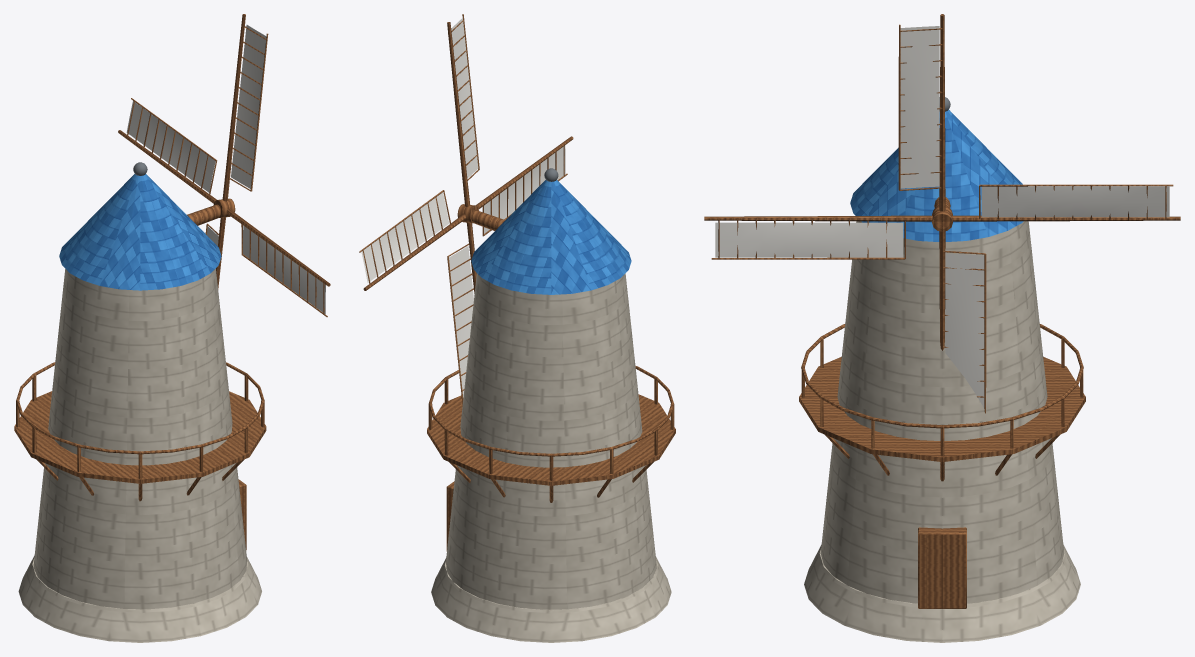
File: hilltop_windmill.glb
3 views of the same model, side by side, from view 1: azimuth 30°, elevation 25°; view 2: azimuth 150°, elevation 25°; view 3: azimuth 270°, elevation 25° (orthographic). The views are drawn at different scales.
Visible parts, largest first — view 1: WM_StoneTower, WM_ShingleCap, WM_TimberGallery, WM_SailCloth, WM_SailFrames; view 2: WM_StoneTower, WM_ShingleCap, WM_TimberGallery, WM_SailCloth, WM_SailFrames; view 3: WM_StoneTower, WM_SailCloth, WM_TimberGallery, WM_ShingleCap, WM_SailFrames.
Boxes of the visible parts, x1,y1,x2,y2 form: WM_StoneTower: (18,268,261,642); WM_ShingleCap: (59,174,221,290); WM_TimberGallery: (14,204,266,550); WM_SailCloth: (126,25,325,314); WM_SailFrames: (118,14,330,317); WM_StoneTower: (431,273,671,642); WM_ShingleCap: (471,180,631,294); WM_TimberGallery: (427,210,675,551); WM_SailCloth: (361,18,565,397); WM_SailFrames: (359,14,573,404); WM_StoneTower: (804,221,1080,642); WM_SailCloth: (715,26,1169,408); WM_TimberGallery: (799,197,1085,608); WM_ShingleCap: (850,109,1023,241); WM_SailFrames: (704,14,1180,413).
Size of the model in its own units: 7.7 by 18.59 by 12.8.
Materials: 5 (3 with a texture image).
